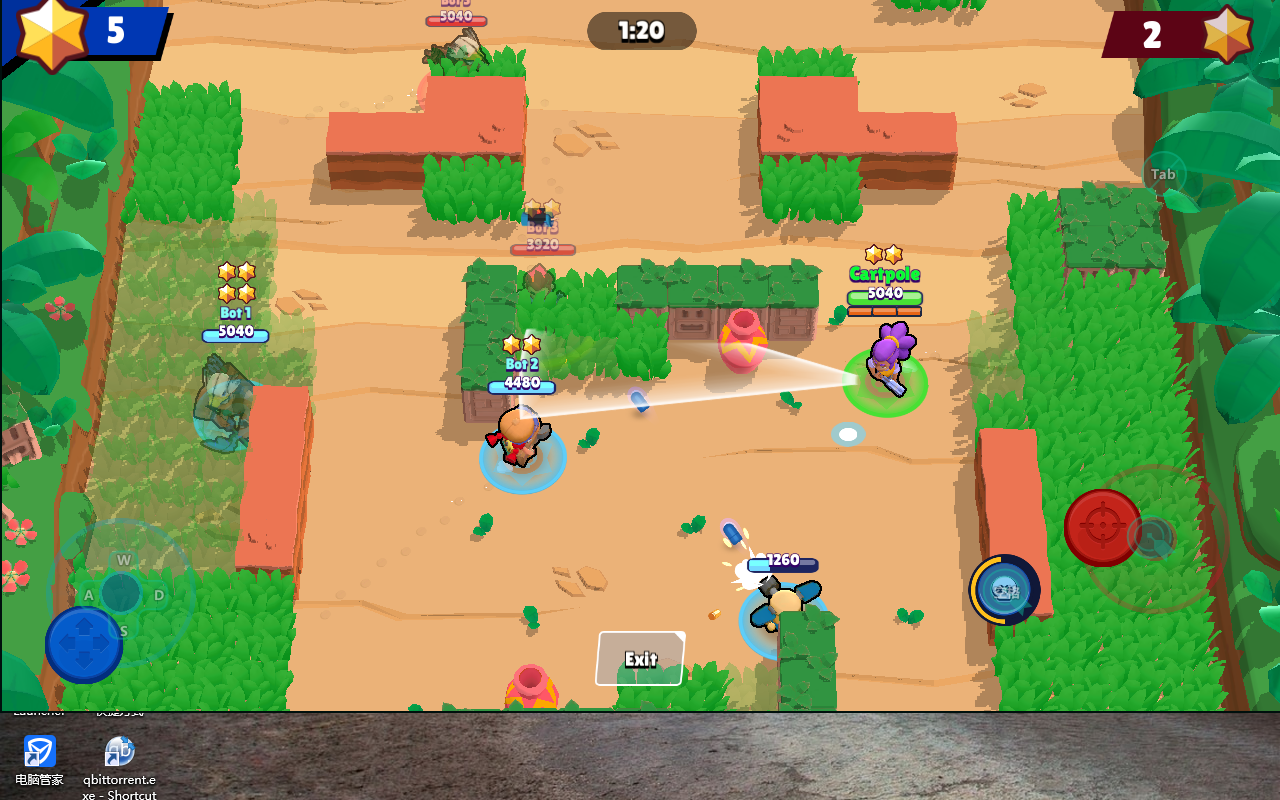current_player: (842, 345, 927, 417)
